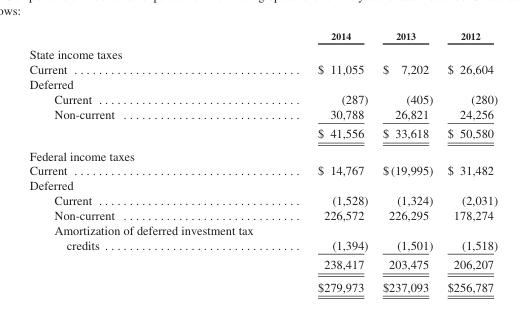table: (28, 29, 497, 293)
table column: (28, 29, 284, 293), (284, 29, 374, 293), (374, 29, 439, 293), (439, 29, 497, 293)
table column header: (28, 29, 497, 44)
table projected row header: (28, 144, 497, 162), (28, 44, 497, 61), (28, 76, 497, 91), (28, 177, 497, 192)
table row: (28, 222, 497, 254), (28, 123, 497, 144), (28, 254, 497, 275), (28, 144, 497, 162), (28, 275, 497, 293), (28, 44, 497, 61), (28, 106, 497, 123), (28, 29, 497, 44), (28, 61, 497, 76), (28, 76, 497, 91), (28, 91, 497, 106), (28, 162, 497, 177), (28, 177, 497, 192), (28, 192, 497, 207), (28, 207, 497, 222)
